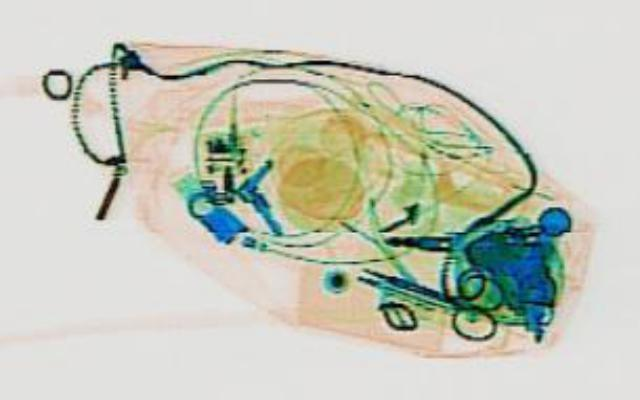Scissors: (332, 244, 530, 339)
